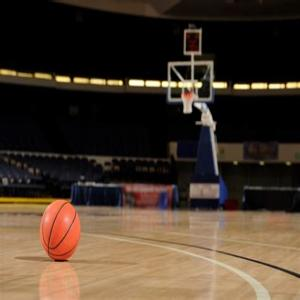Basket: (39, 197, 82, 263)
